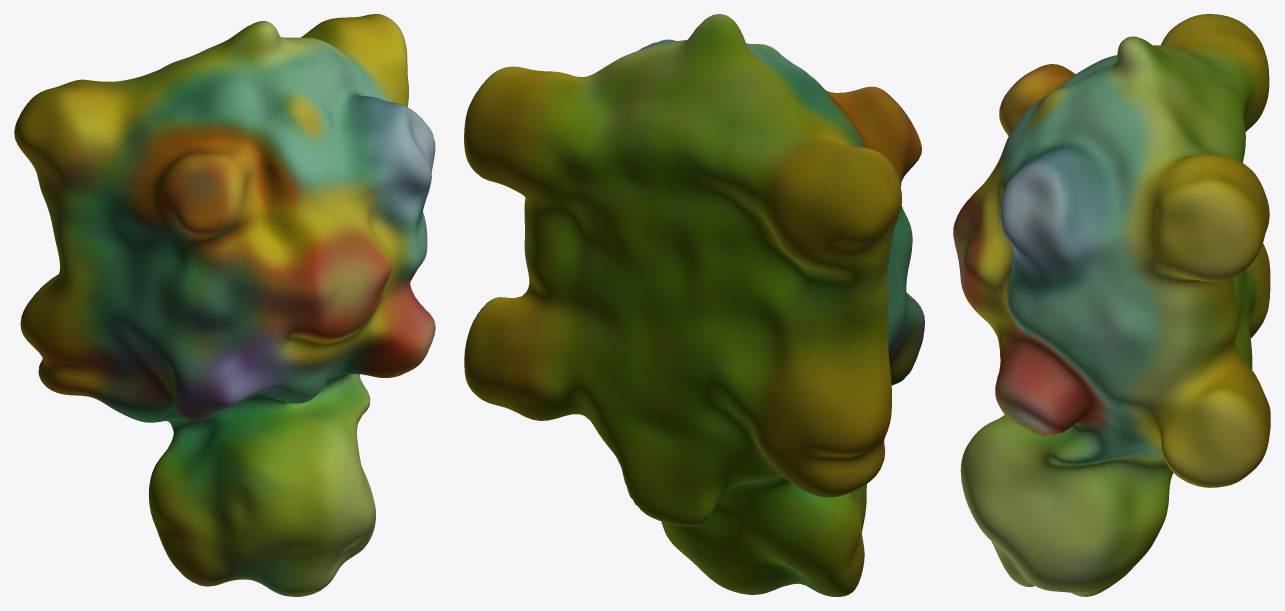
The model's file is turtle.glb.
The picture shows the model from 3 angles, left to right: view 1: azimuth 30°, elevation 25°; view 2: azimuth 150°, elevation 25°; view 3: azimuth 270°, elevation 25°; orthographic projection. The views are drawn at different scales.
Size of the model in its own units: 0.7305 by 0.9983 by 0.5183.
